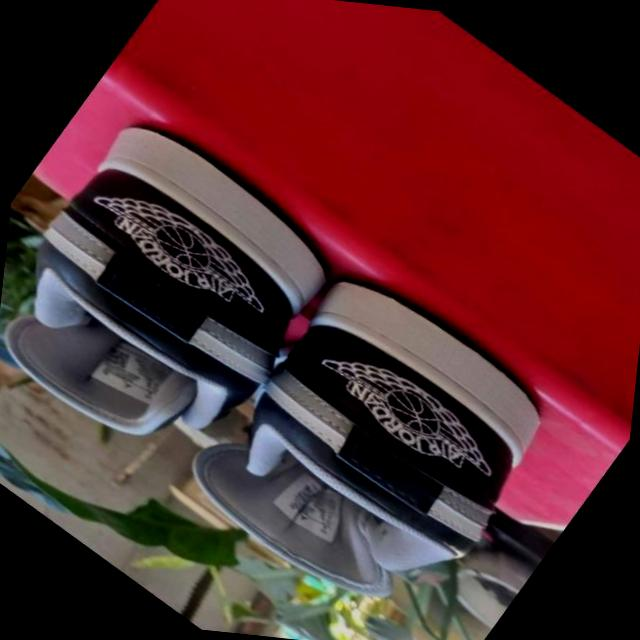nike_fake_jordan: (151, 231, 584, 640), (0, 85, 371, 506)
